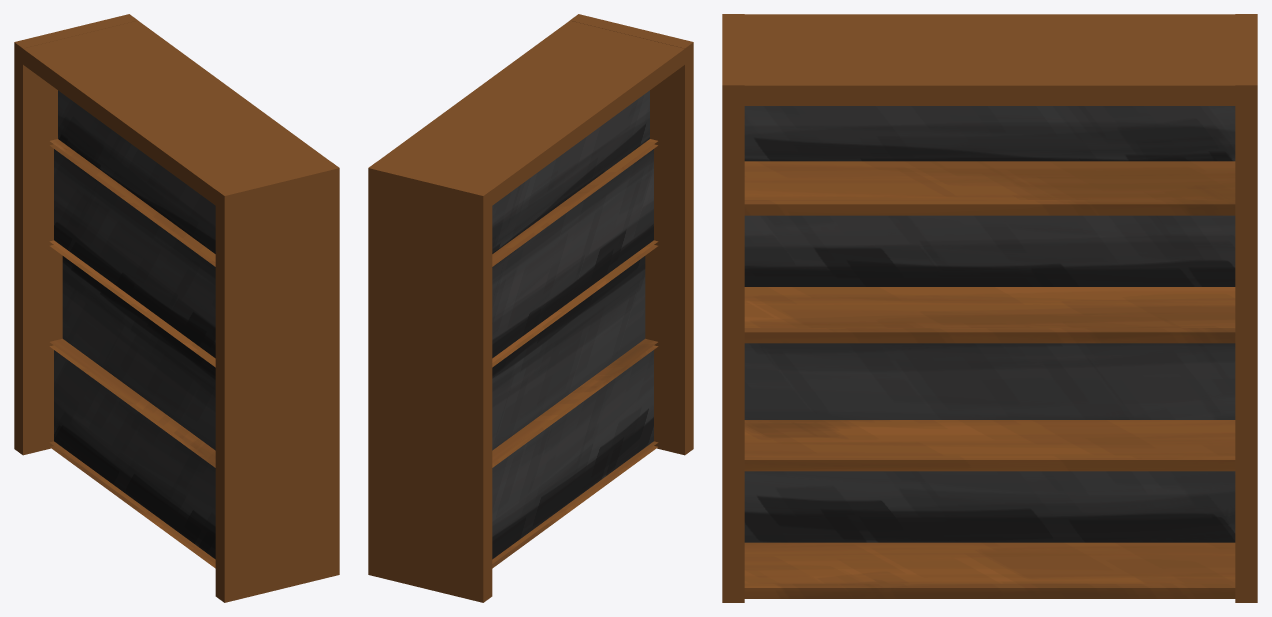
Rendered from Book_Shelfs.FBX.
The picture shows the model from 3 angles, left to right: view 1: azimuth 30°, elevation 25°; view 2: azimuth 150°, elevation 25°; view 3: azimuth 270°, elevation 25°; orthographic projection. The views are drawn at different scales.
Parts seen in each view (by area): view 1: Box096.002, Box096, Box096.001; view 2: Box096.002, Box096.001, Box096; view 3: Box096.002, Box096.001, Box096.
Boxes of the visible parts, box(x1,y1,x2,y2) form: Box096.002: box(23, 20, 330, 568); Box096: box(215, 161, 339, 602); Box096.001: box(14, 14, 137, 455); Box096.002: box(377, 20, 684, 568); Box096.001: box(368, 161, 492, 602); Box096: box(570, 14, 693, 455); Box096.002: box(723, 14, 1256, 598); Box096.001: box(1235, 14, 1257, 602); Box096: box(722, 14, 744, 602).
Bounding box in the file's own units: 68.08 × 230 × 215.
